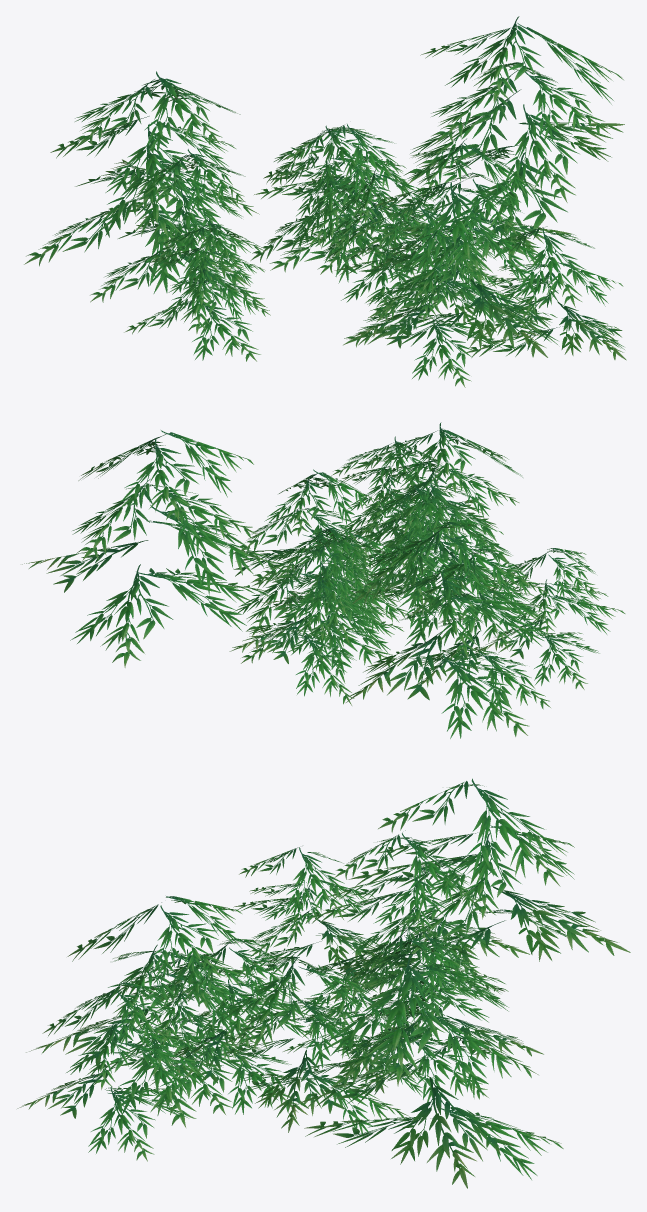
Rendered from Area_09_50.fbx.
3 renders of one model, top to bottom at view 1: azimuth 30°, elevation 25°; view 2: azimuth 150°, elevation 25°; view 3: azimuth 270°, elevation 25°, orthographic. The views are drawn at different scales.
Visible parts, largest first — view 1: Area_09_50; view 2: Area_09_50; view 3: Area_09_50.
Part boxes in pixels (x1,y1,x2,y2): Area_09_50: (24,16,626,387); Area_09_50: (22,422,625,738); Area_09_50: (17,778,630,1188).
Size of the model in its own units: 2428 by 888 by 2114.
